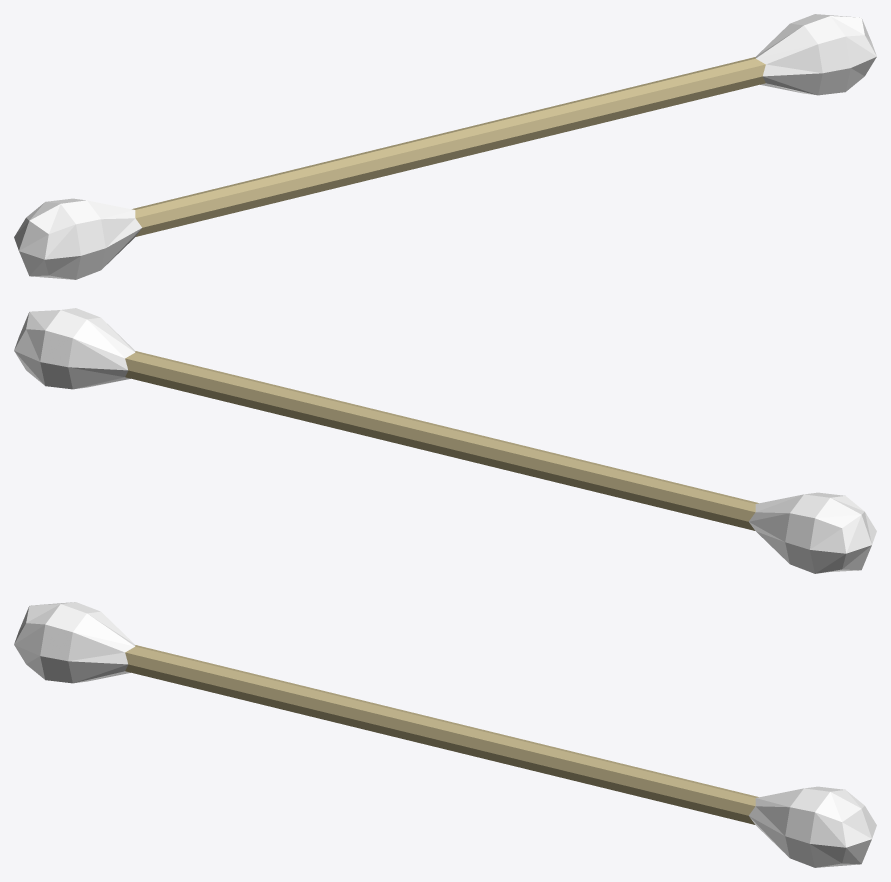
Rendered from cotton_swab_from_poly_by_google.glb.
3 views of the same model, one above another, from view 1: azimuth 30°, elevation 25°; view 2: azimuth 150°, elevation 25°; view 3: azimuth 330°, elevation 25° (orthographic).
Visible parts, largest first — view 1: Object_5, Object_4; view 2: Object_5, Object_4; view 3: Object_5, Object_4.
Boxes of the visible parts, bbox=[...] form: Object_5: bbox=[132, 57, 765, 236]; Object_4: bbox=[14, 14, 876, 279]; Object_5: bbox=[125, 351, 758, 530]; Object_4: bbox=[14, 308, 876, 573]; Object_5: bbox=[125, 645, 758, 824]; Object_4: bbox=[14, 602, 876, 867].
Size of the model in its own units: 4.39 by 0.3651 by 0.3651.
